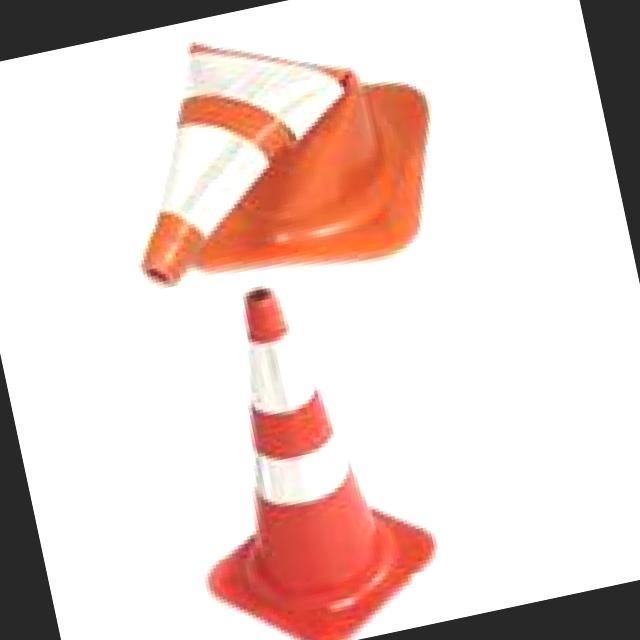cone: (150, 260, 459, 640)
